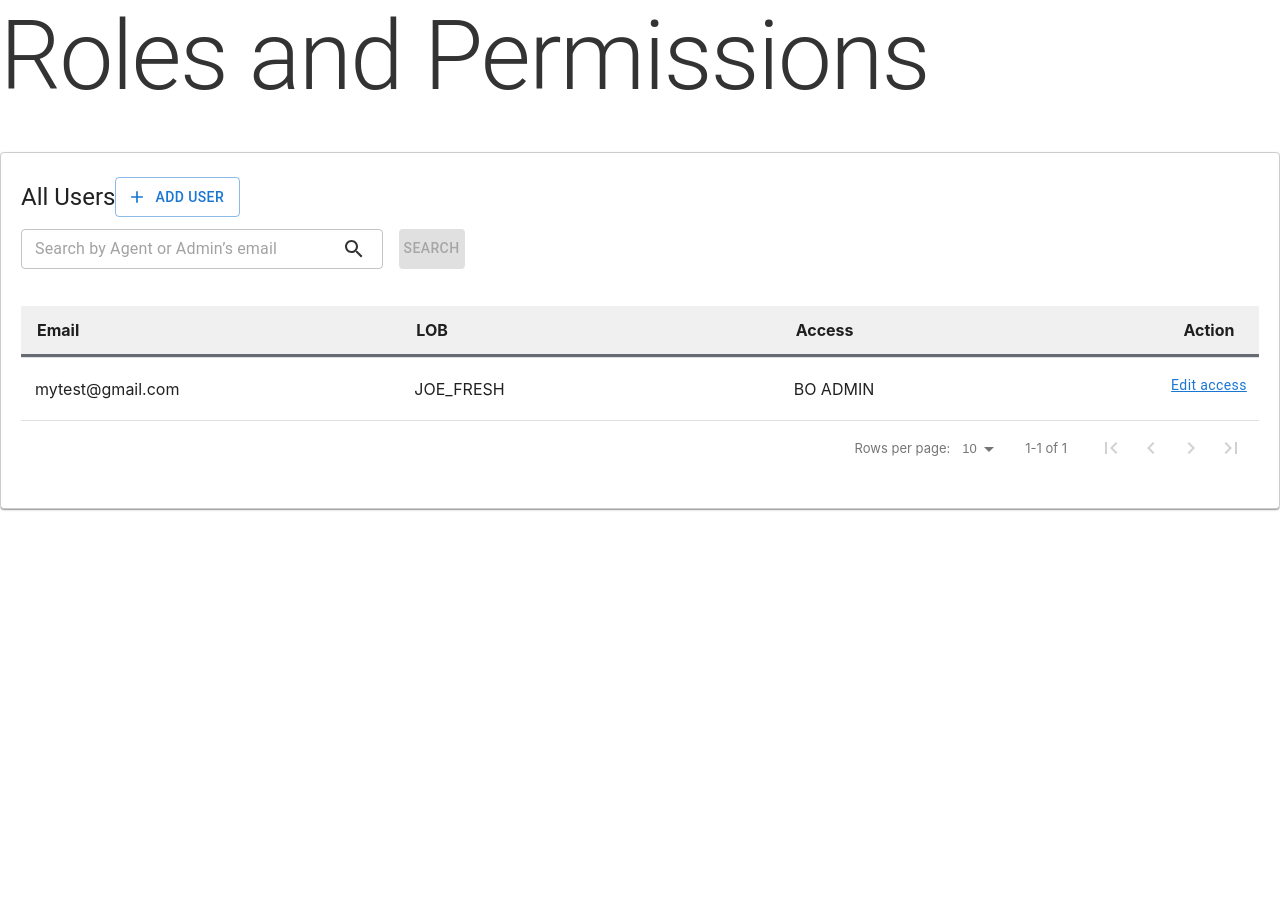
it: RolesPermissions tests › should open edit access modal edit click
The width and height of the screenshot is (1280, 900).
Click the button with test id "edit-user-access-btn": (1209,385) [1163,366,1255,403]
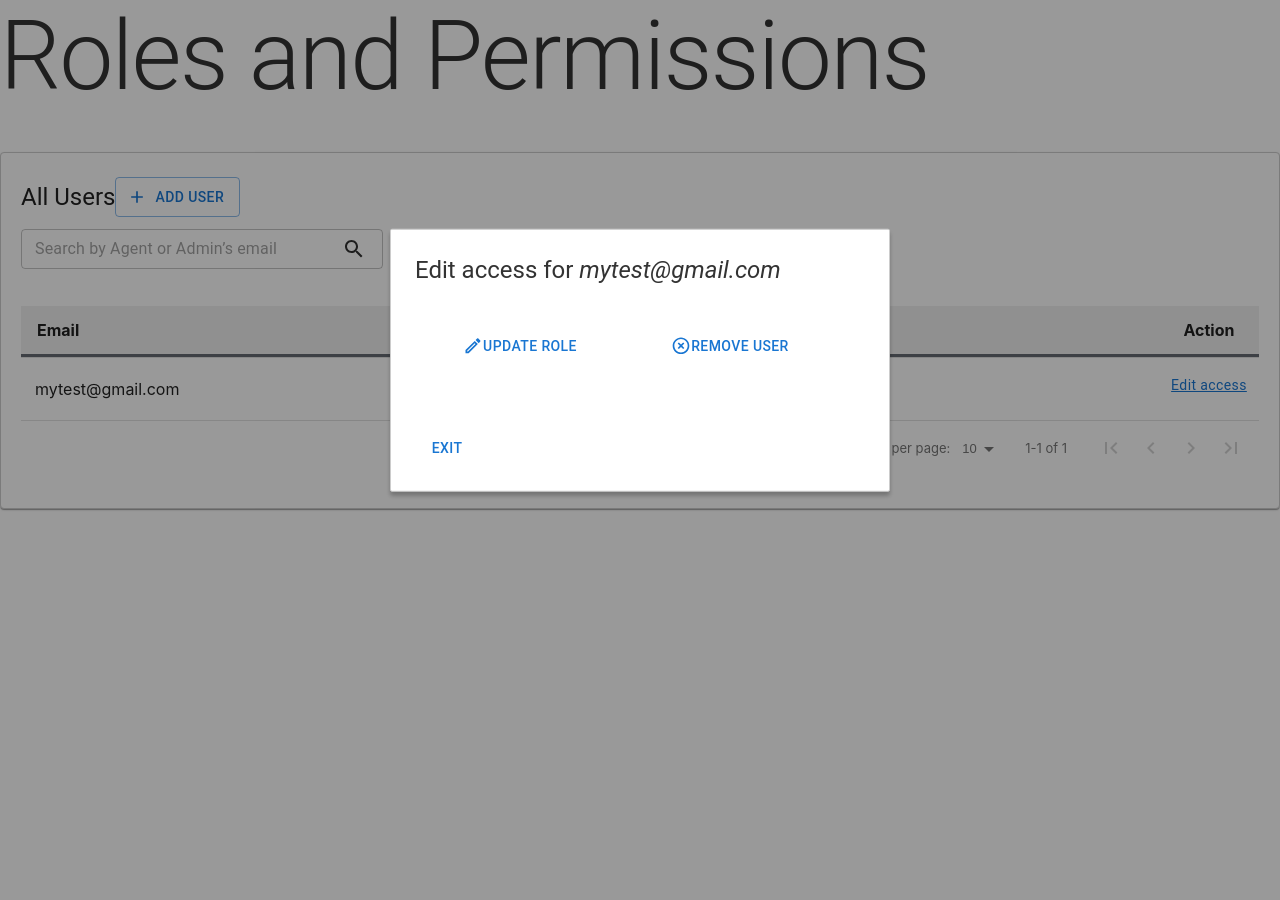
Expected: the button with test id "exit-edit-modal-btn" is shown, [415,430,479,466]
